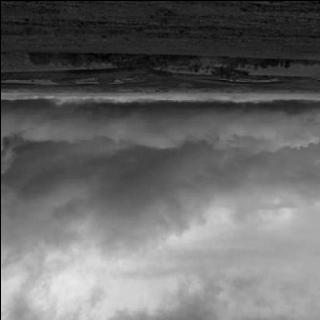Nimbostratus: (0, 81, 320, 320)
